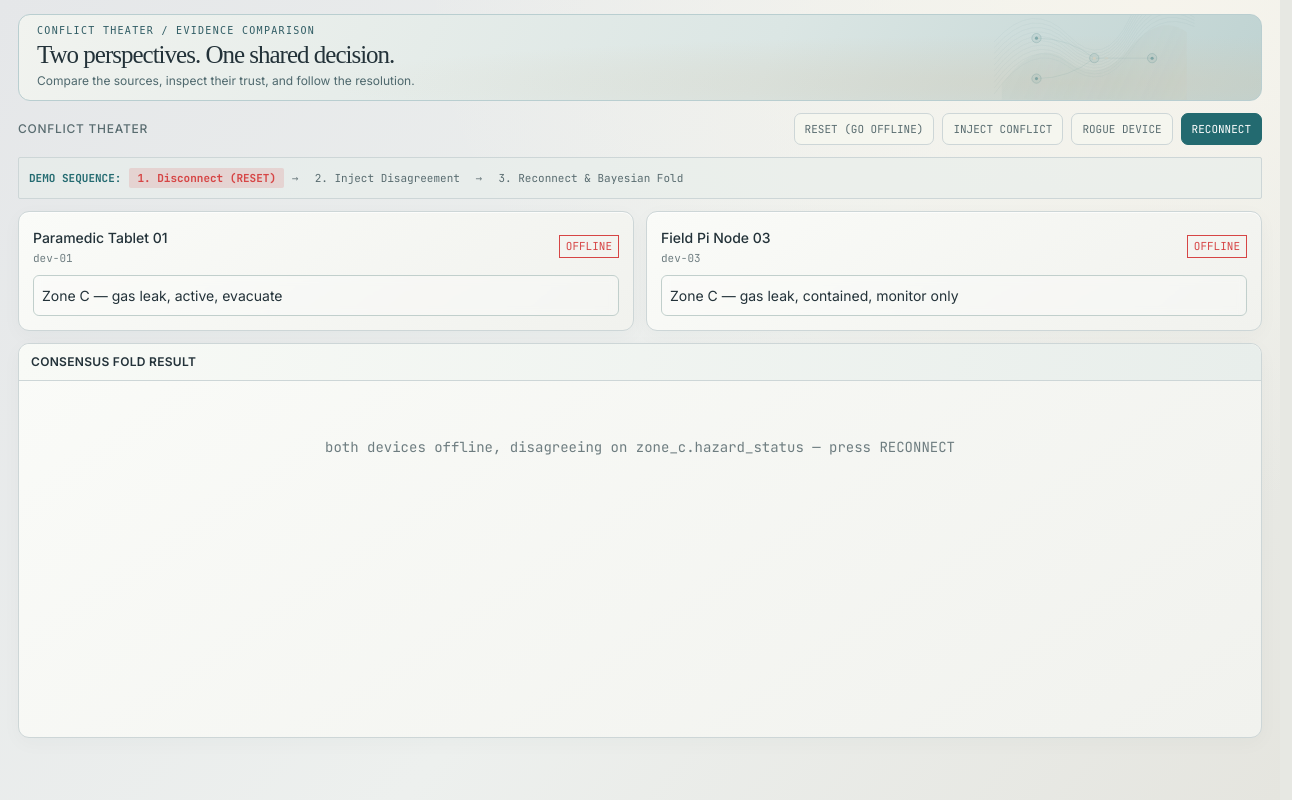
ConflictTheater › handles reconnect network failure without falsely reporting success
Click the button "RECONNECT".
click(1221, 129)  # box left=1181, top=113, right=1262, bottom=145
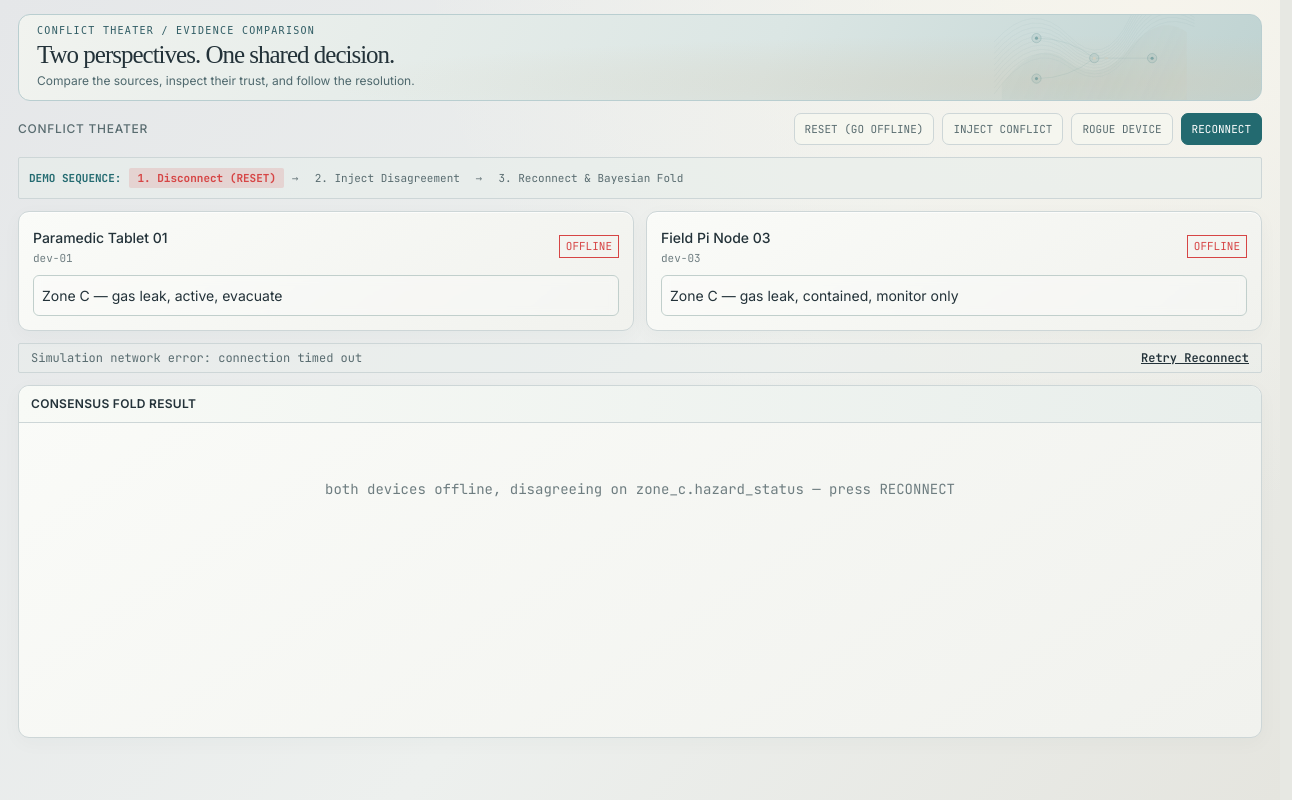
Expected: the text "Simulation network error: connection timed out" is shown, left=31, top=350, right=362, bottom=366
Expected: the button "Retry Reconnect" is shown, left=1141, top=350, right=1249, bottom=366
